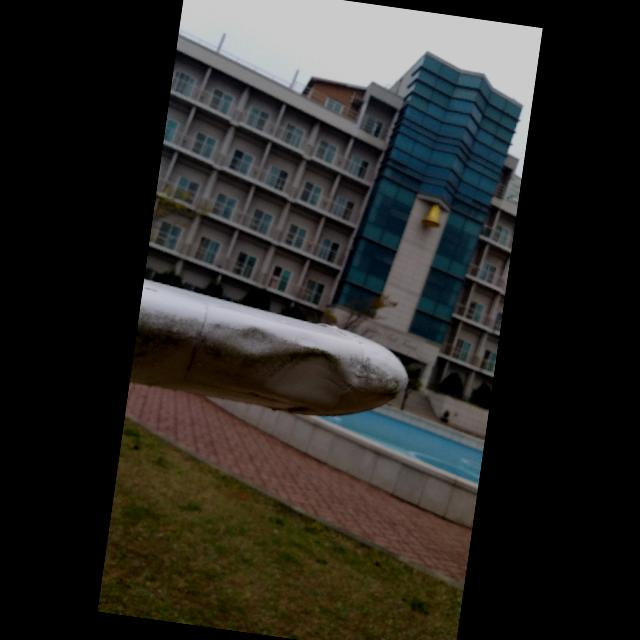dent: (250, 339, 366, 415), (226, 321, 274, 354)
